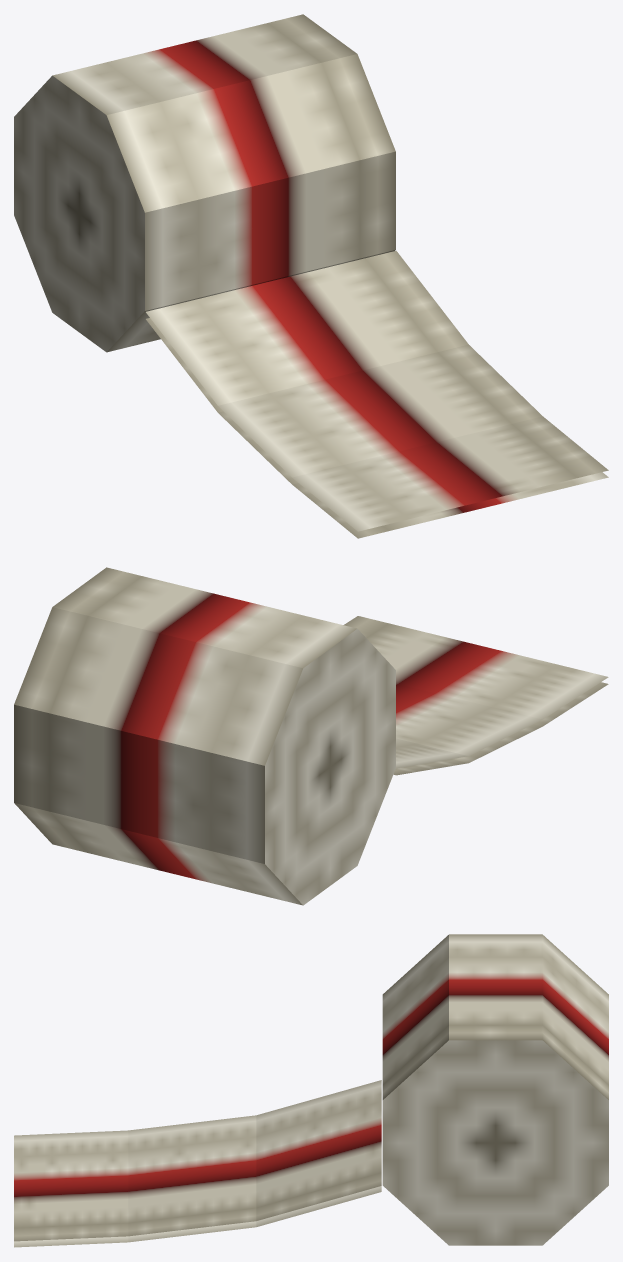
File: SM_Bandage_PSX.fbx
3 renders of one model, top to bottom at view 1: azimuth 30°, elevation 25°; view 2: azimuth 150°, elevation 25°; view 3: azimuth 270°, elevation 25°, orthographic. The views are drawn at different scales.
Visible parts, largest first — view 1: SM_Bandage; view 2: SM_Bandage; view 3: SM_Bandage.
Boxes of the visible parts, bbox=[...] form: SM_Bandage: bbox=[14, 14, 608, 538]; SM_Bandage: bbox=[14, 567, 608, 905]; SM_Bandage: bbox=[14, 934, 608, 1247].
Bounding box in the file's own units: 4.5 × 4.1 × 10.68.
1 material, 1 textured.
